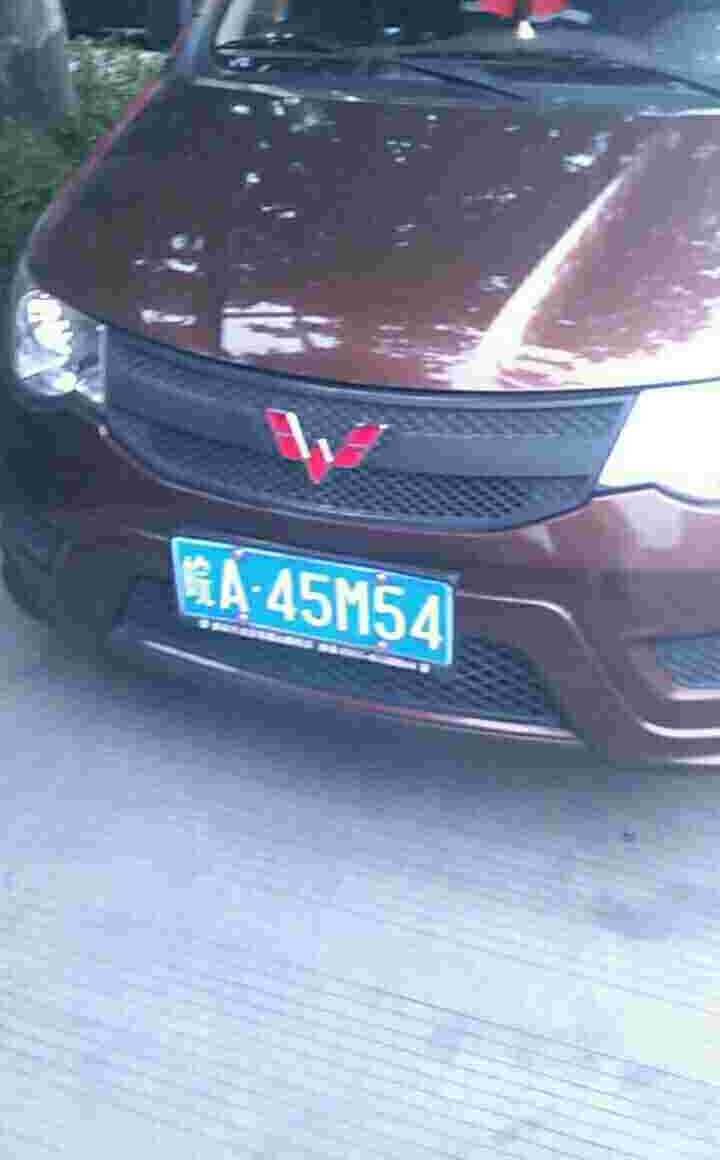license_plate: (179, 539, 450, 663)
